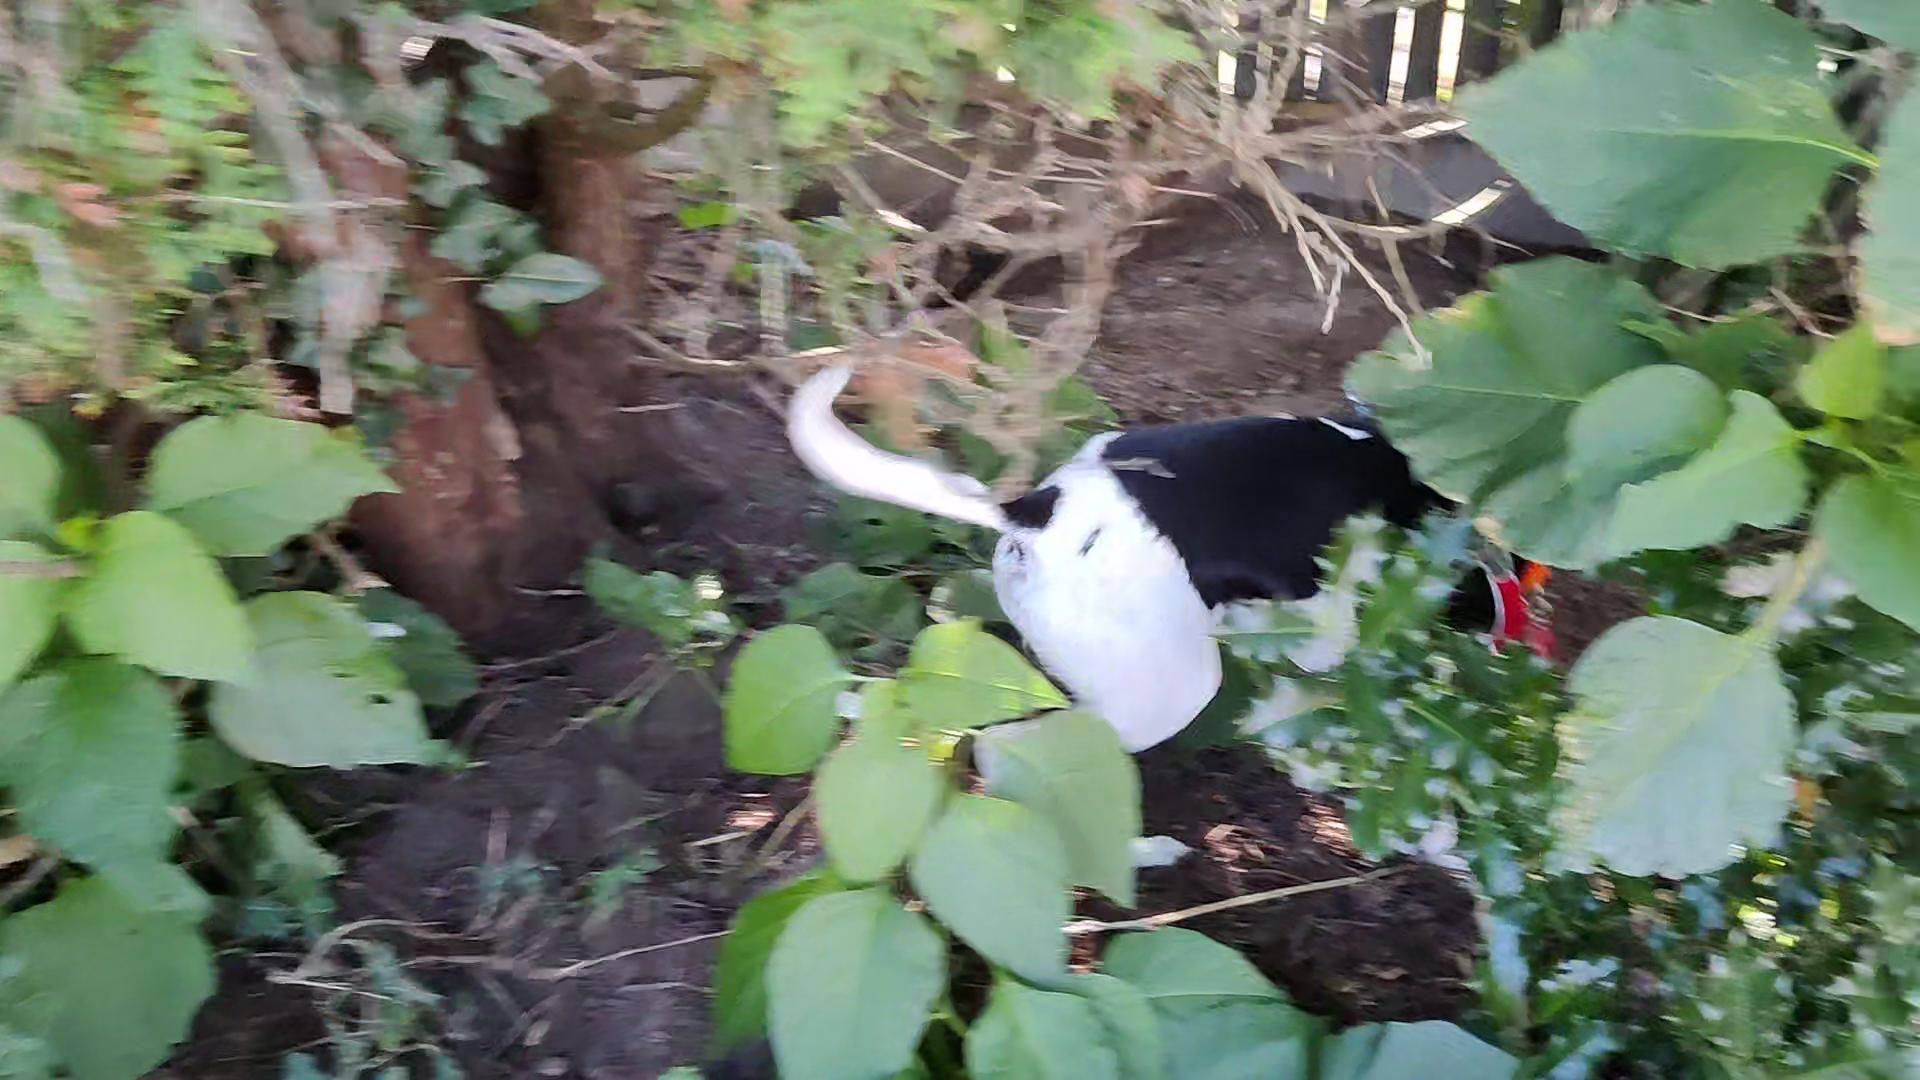Dog: (765, 320, 1565, 882)
